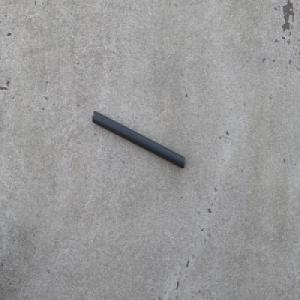LuggagePart: (92, 110, 186, 170)
